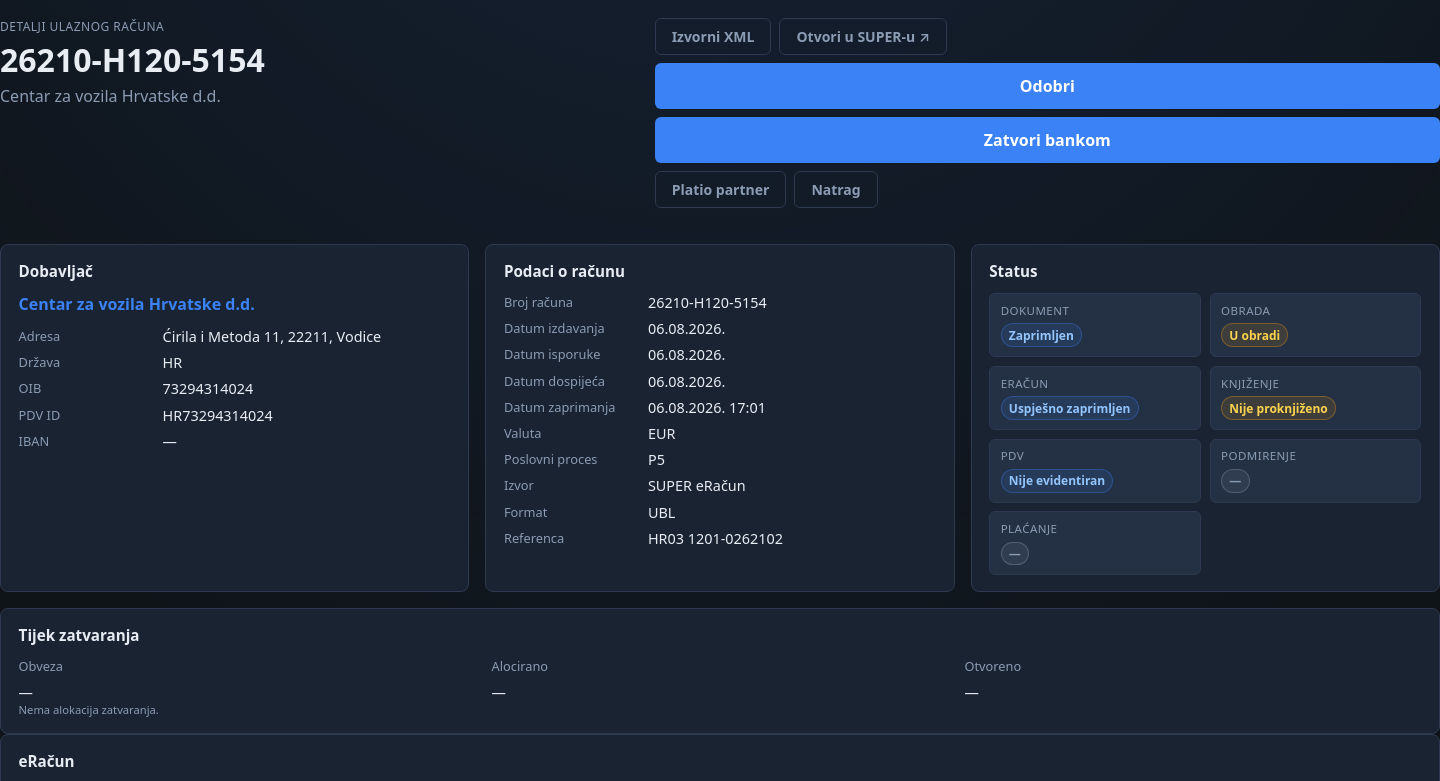
Test: IncomingExpenseDetail › shows a readable approve conflict instead of a page error
Click the button "Odobri". click: (1047, 86)
box: [655,63,1439,109]
(page scrolled)
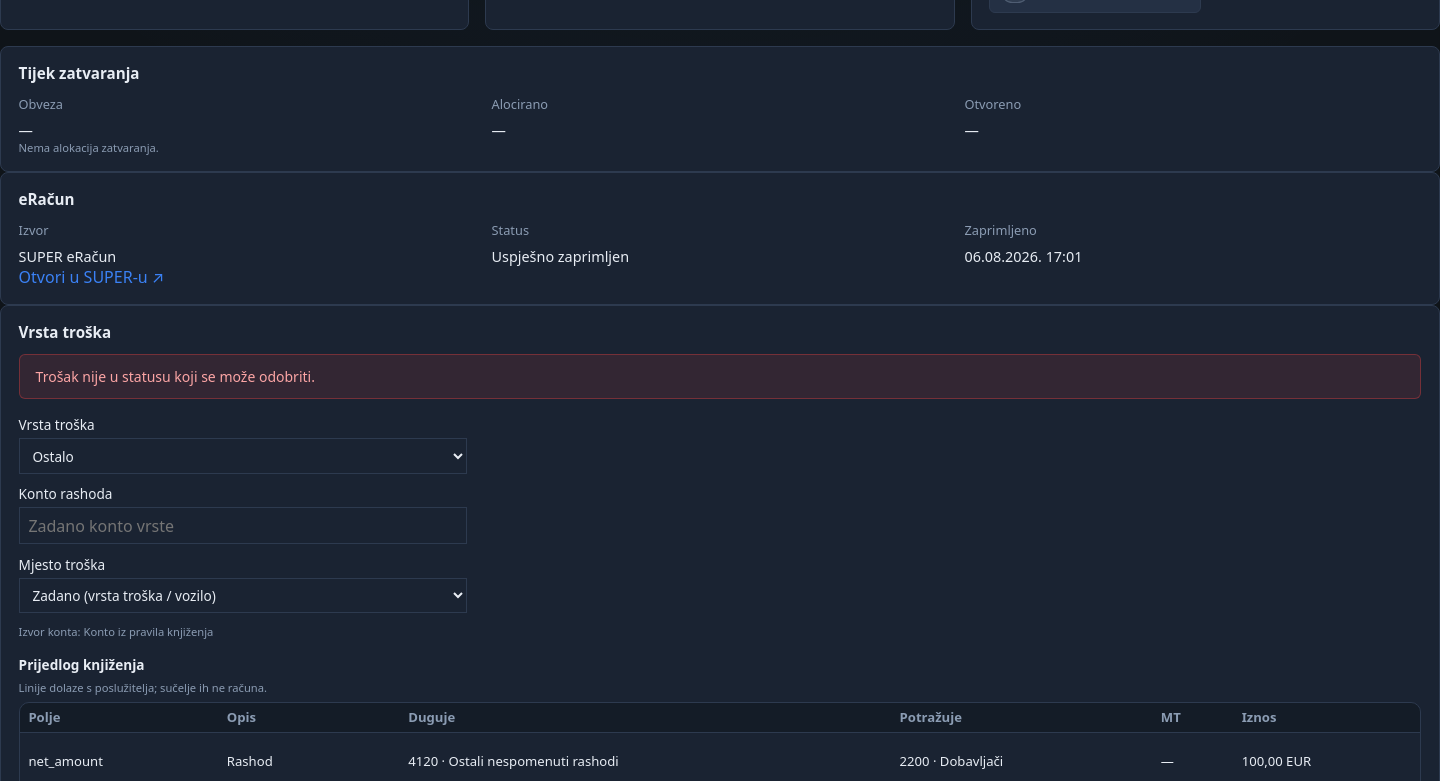
Now the text "Trošak nije u statusu koji se može odobriti." is shown, box [19,354,1421,399]
